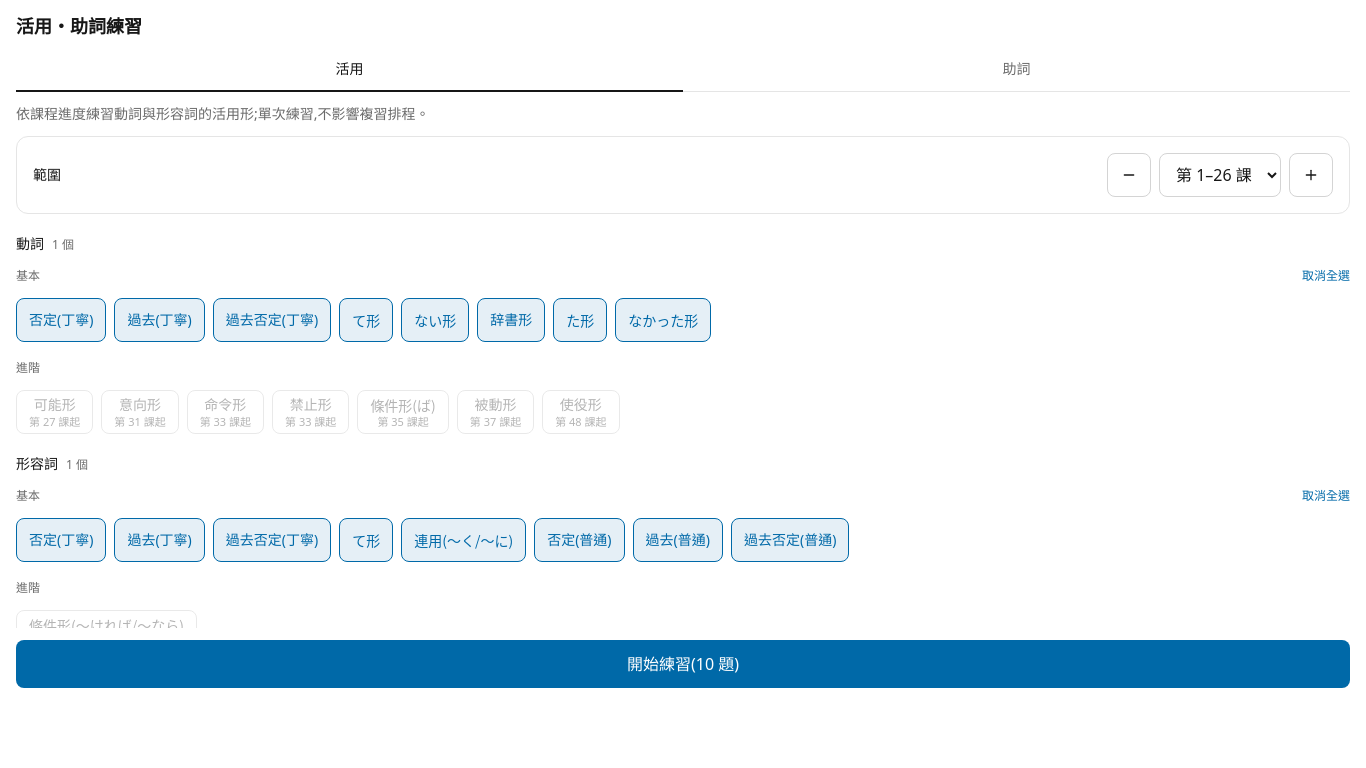
DrillPage 設定:進階形(T11.5) › 第 1–26 課:進階形 chips 全部鎖住並標示導入課;改成第 1–50 課後全部開放且勾選
Check: the button "可能形 第 27 課起" is disabled, box [16,390,93,434]
Check: the button "可能形 第 27 課起" is shown, box [16,390,93,434]
Select "第 1–50 課" in the dropdown labelled "範圍" at (1220, 175), box [1159,153,1281,197]
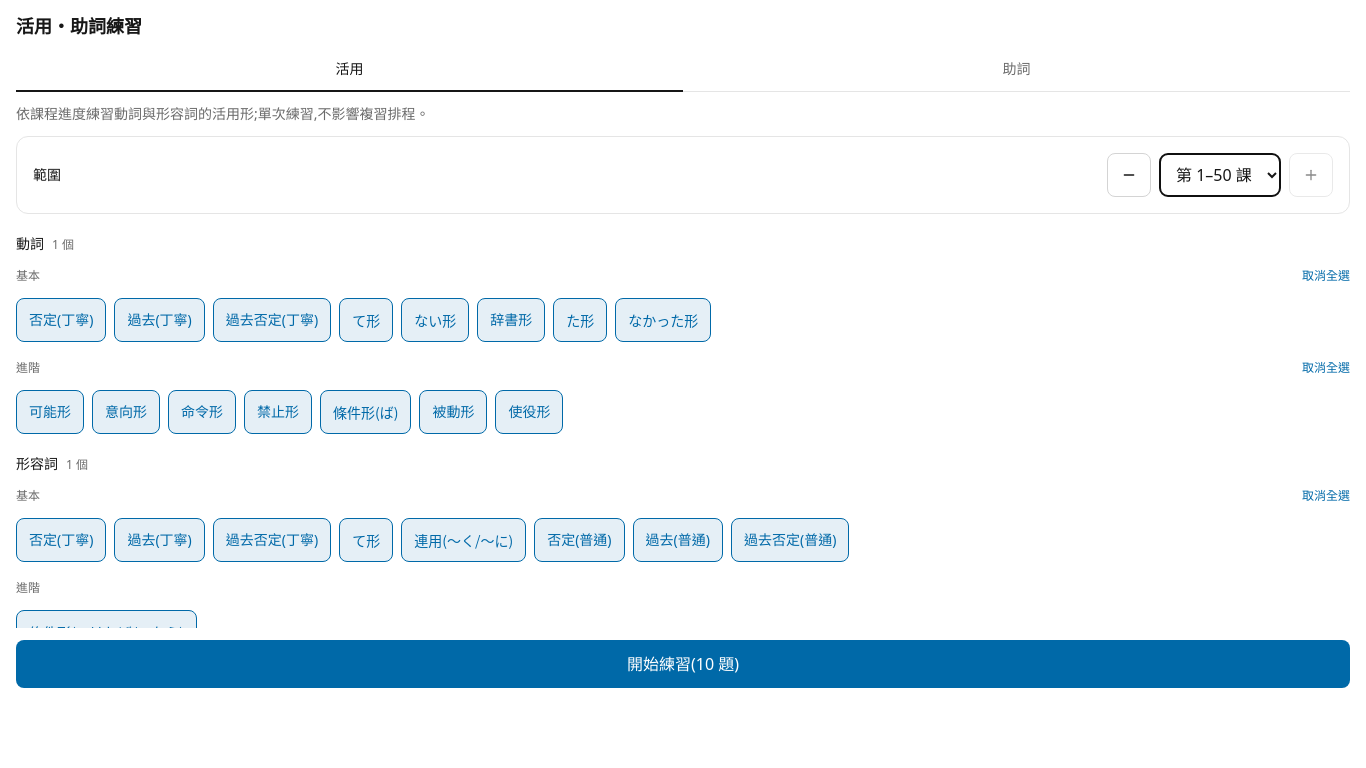
Check: the button "可能形" is enabled, box [16,390,84,434]
Check: the button "可能形" no longer shows "課起", box [16,390,84,434]
Check: the button "意向形" is enabled, box [92,390,160,434]
